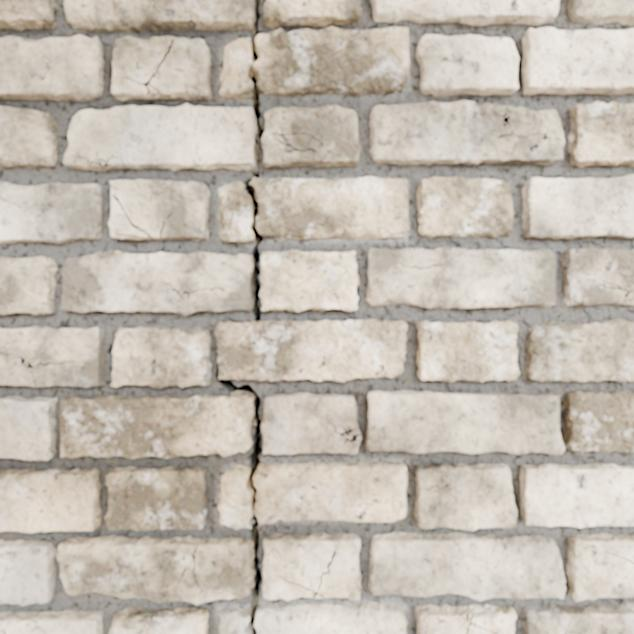broken_brick: (253, 26, 408, 95), (250, 176, 409, 239), (254, 462, 407, 524), (255, 602, 406, 633), (218, 181, 254, 242), (218, 464, 250, 529), (219, 38, 252, 100), (218, 609, 249, 633)
crack: (0, 0, 407, 633), (368, 532, 633, 601), (365, 391, 633, 454), (369, 101, 564, 165), (366, 247, 556, 308), (522, 27, 633, 95), (519, 463, 633, 527), (522, 174, 633, 239), (0, 35, 104, 101), (414, 464, 516, 530), (525, 320, 633, 382), (262, 532, 360, 600), (104, 466, 207, 530), (0, 468, 101, 532), (416, 34, 518, 97), (0, 326, 105, 387), (111, 36, 211, 100), (0, 181, 103, 243), (416, 320, 519, 382), (108, 179, 209, 240), (111, 327, 211, 388), (417, 177, 513, 237), (370, 0, 558, 25), (567, 101, 633, 167), (559, 248, 633, 306), (0, 106, 58, 169), (0, 396, 56, 460), (521, 603, 633, 633), (0, 256, 56, 315), (414, 604, 516, 633), (109, 605, 208, 633), (264, 0, 362, 28), (0, 611, 102, 633), (567, 0, 633, 26), (0, 0, 57, 30)
